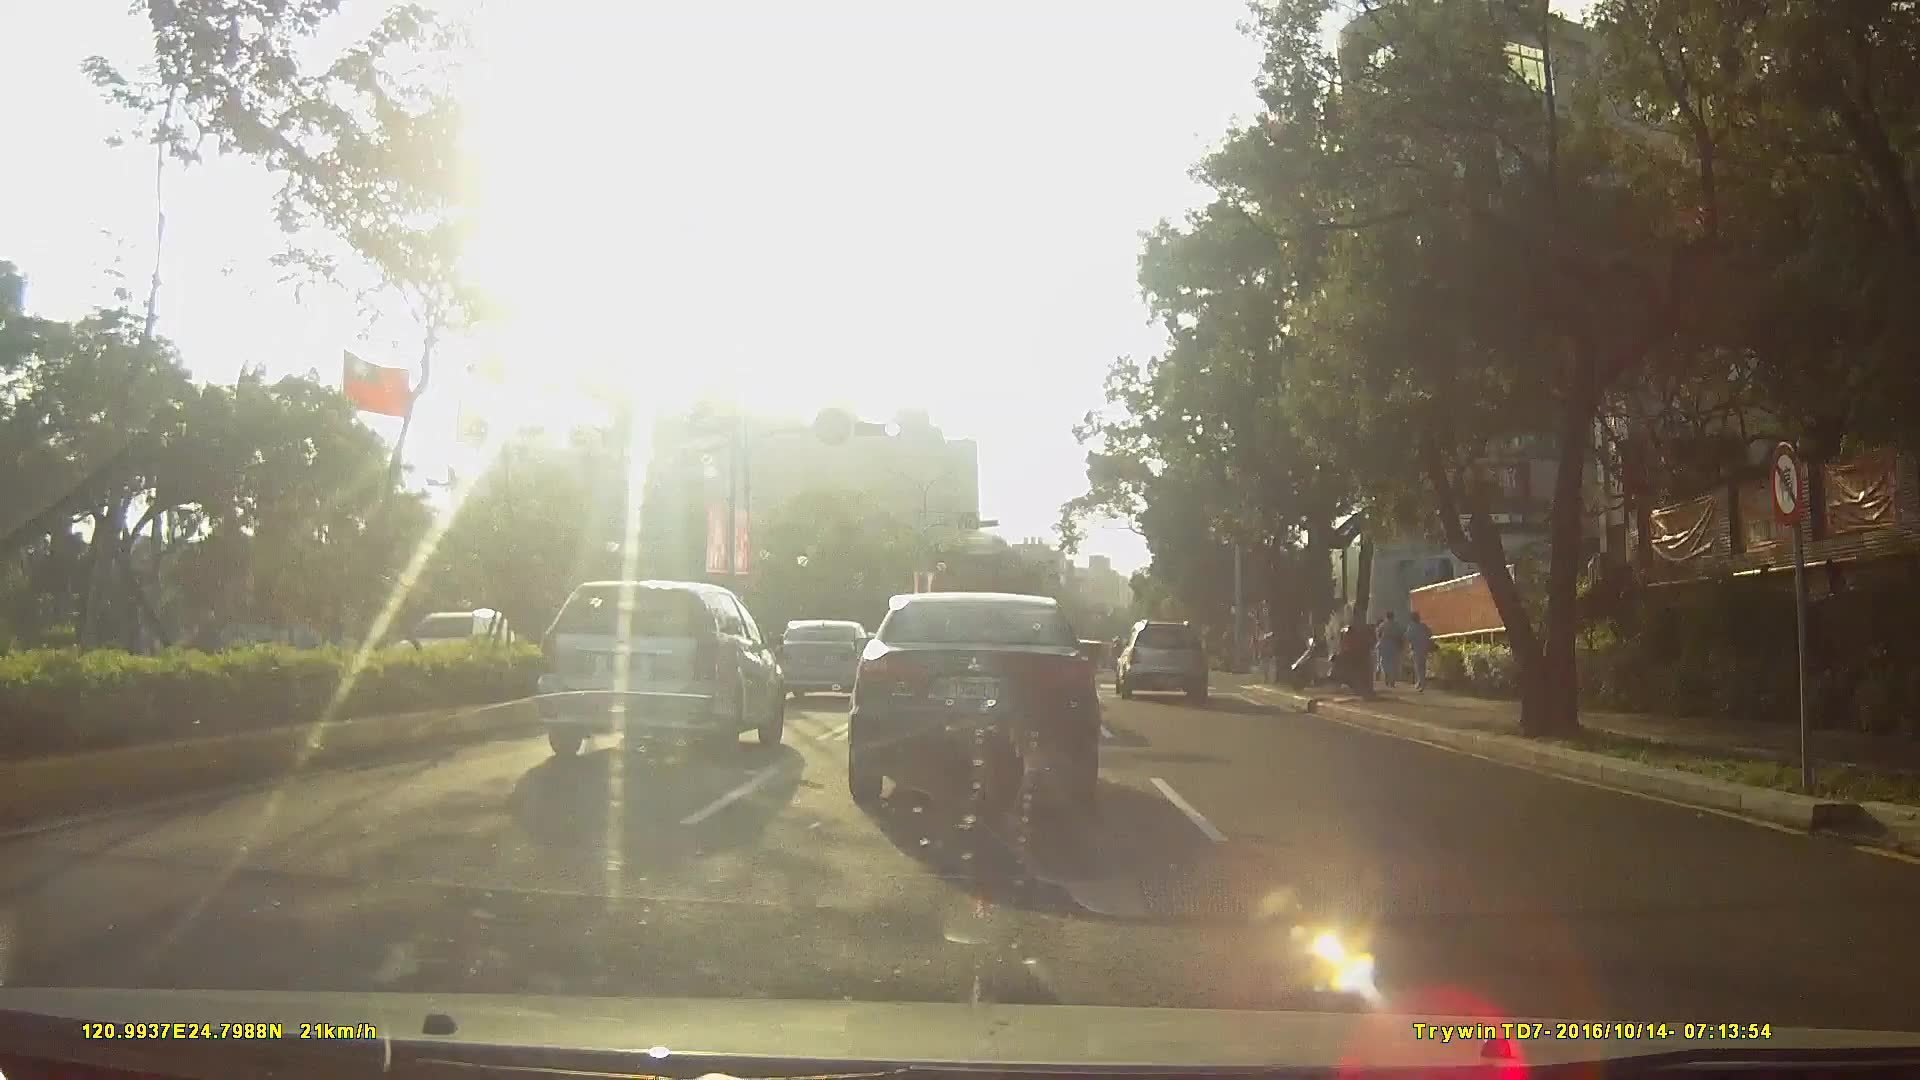pedestrian: (1404, 616, 1437, 702), (1377, 611, 1406, 698)
vehicle: (842, 593, 1098, 816), (530, 579, 786, 762), (774, 621, 877, 712), (1111, 623, 1217, 708)
